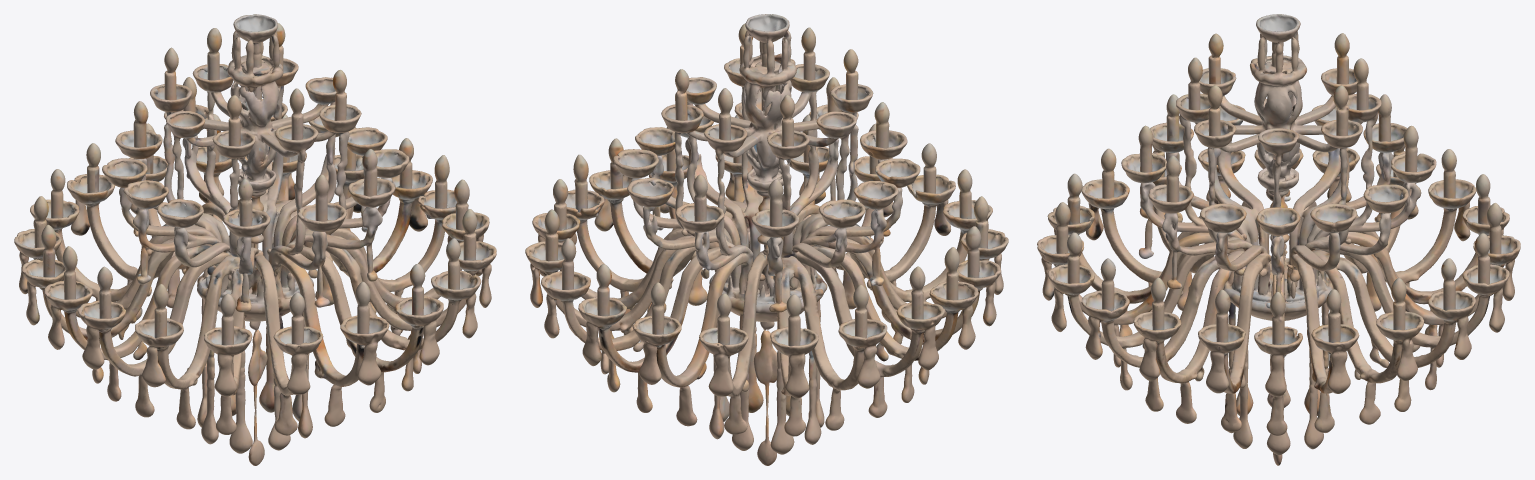
The picture shows the model from 3 angles, left to right: view 1: azimuth 30°, elevation 25°; view 2: azimuth 150°, elevation 25°; view 3: azimuth 270°, elevation 25°; orthographic projection.
Parts seen in each view (by area): view 1: tripo_node_5580f31c-7ba0-4403-b6c9-cec507762126; view 2: tripo_node_5580f31c-7ba0-4403-b6c9-cec507762126; view 3: tripo_node_5580f31c-7ba0-4403-b6c9-cec507762126.
Part boxes in pixels (x1,y1,x2,y2): tripo_node_5580f31c-7ba0-4403-b6c9-cec507762126: (14, 14, 496, 465); tripo_node_5580f31c-7ba0-4403-b6c9-cec507762126: (525, 14, 1008, 465); tripo_node_5580f31c-7ba0-4403-b6c9-cec507762126: (1037, 14, 1520, 465).
Size of the model in its own units: 0.9838 by 1 by 0.9901.
1 material, 1 textured.
